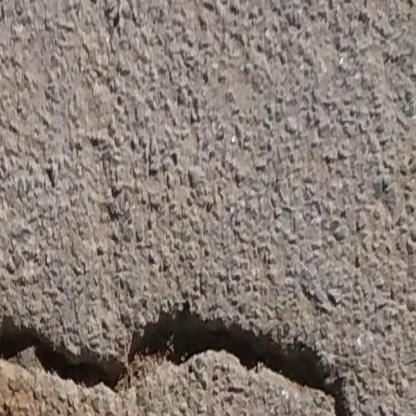Cracks: (0, 307, 357, 416), (0, 407, 34, 416)
